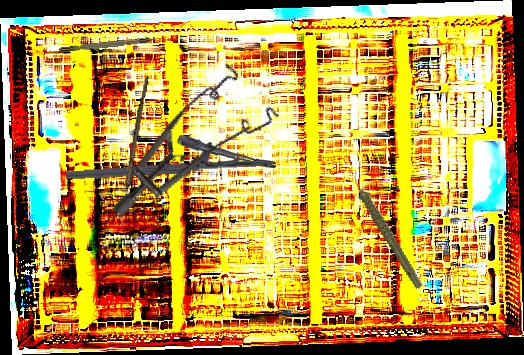Handpiece: (351, 162, 424, 298)
Hook Surgical: (58, 35, 168, 53)
Needle Holder: (64, 130, 276, 181)
Speculum: (110, 42, 291, 258)
Surgical Spoon: (118, 75, 149, 228)
